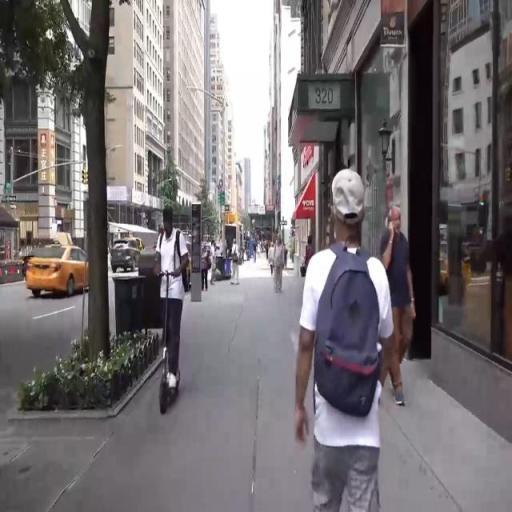person: (294, 164, 387, 512), (152, 197, 197, 410), (382, 202, 423, 385), (231, 237, 246, 298), (275, 238, 288, 303), (212, 238, 224, 296), (199, 243, 212, 293), (269, 238, 276, 277), (254, 240, 259, 265)
